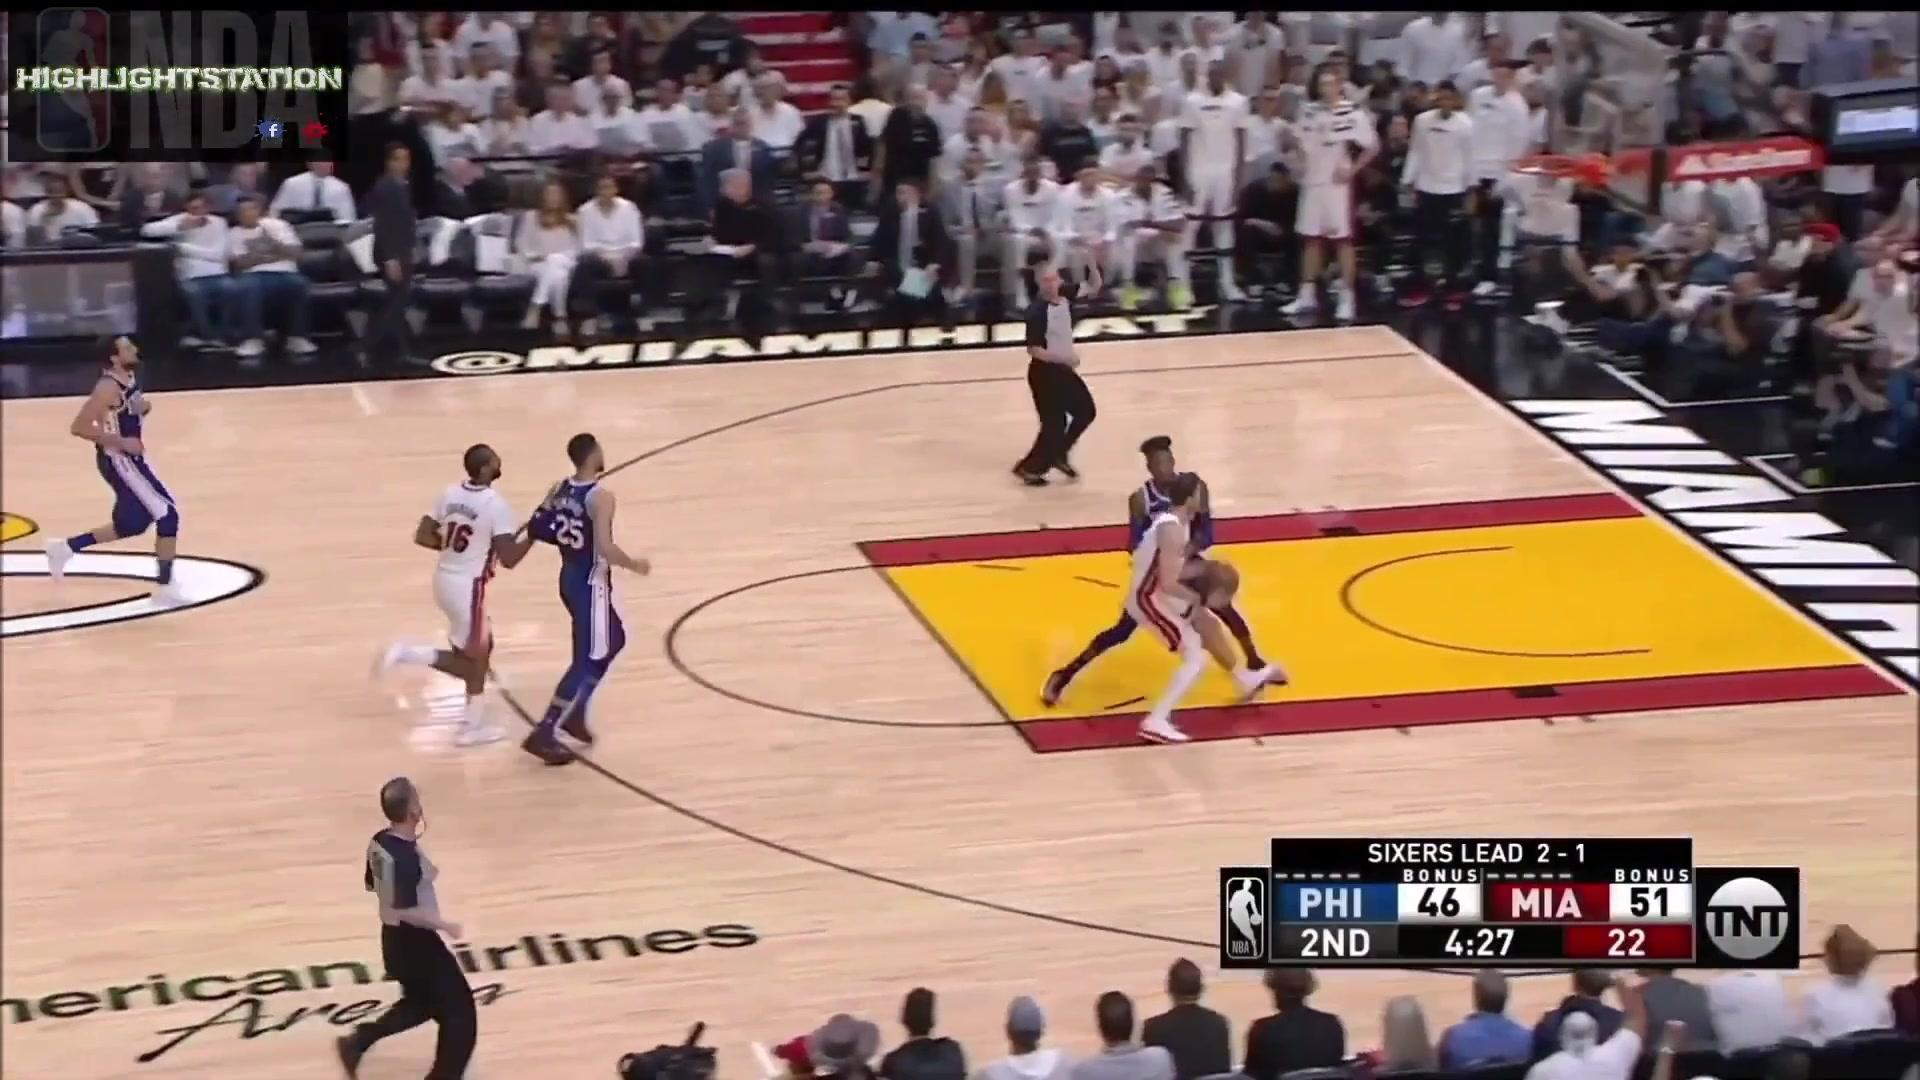no_foul: (1039, 434, 1295, 745)
